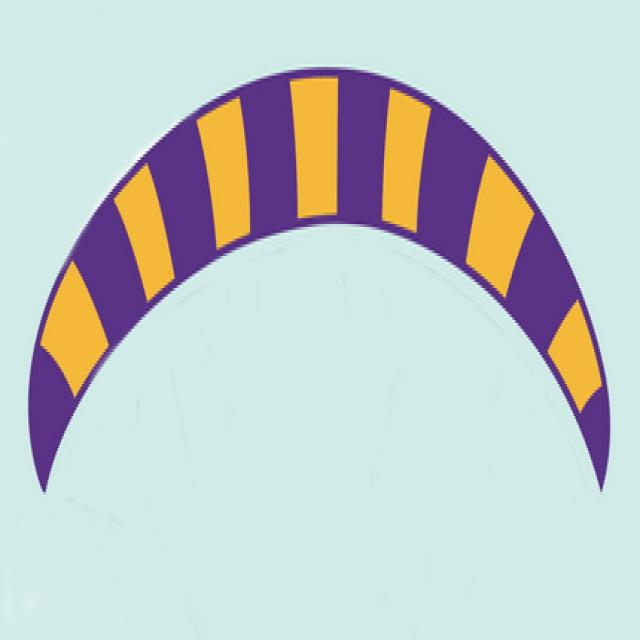paraglider: (27, 64, 612, 500)
